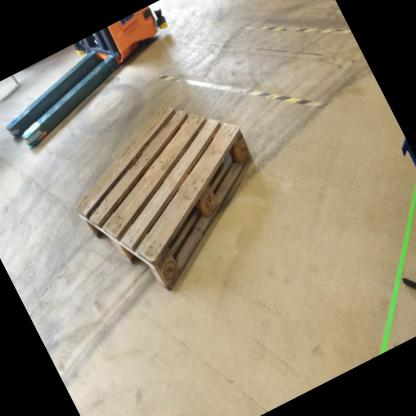BoxFace: (72, 100, 256, 298)
